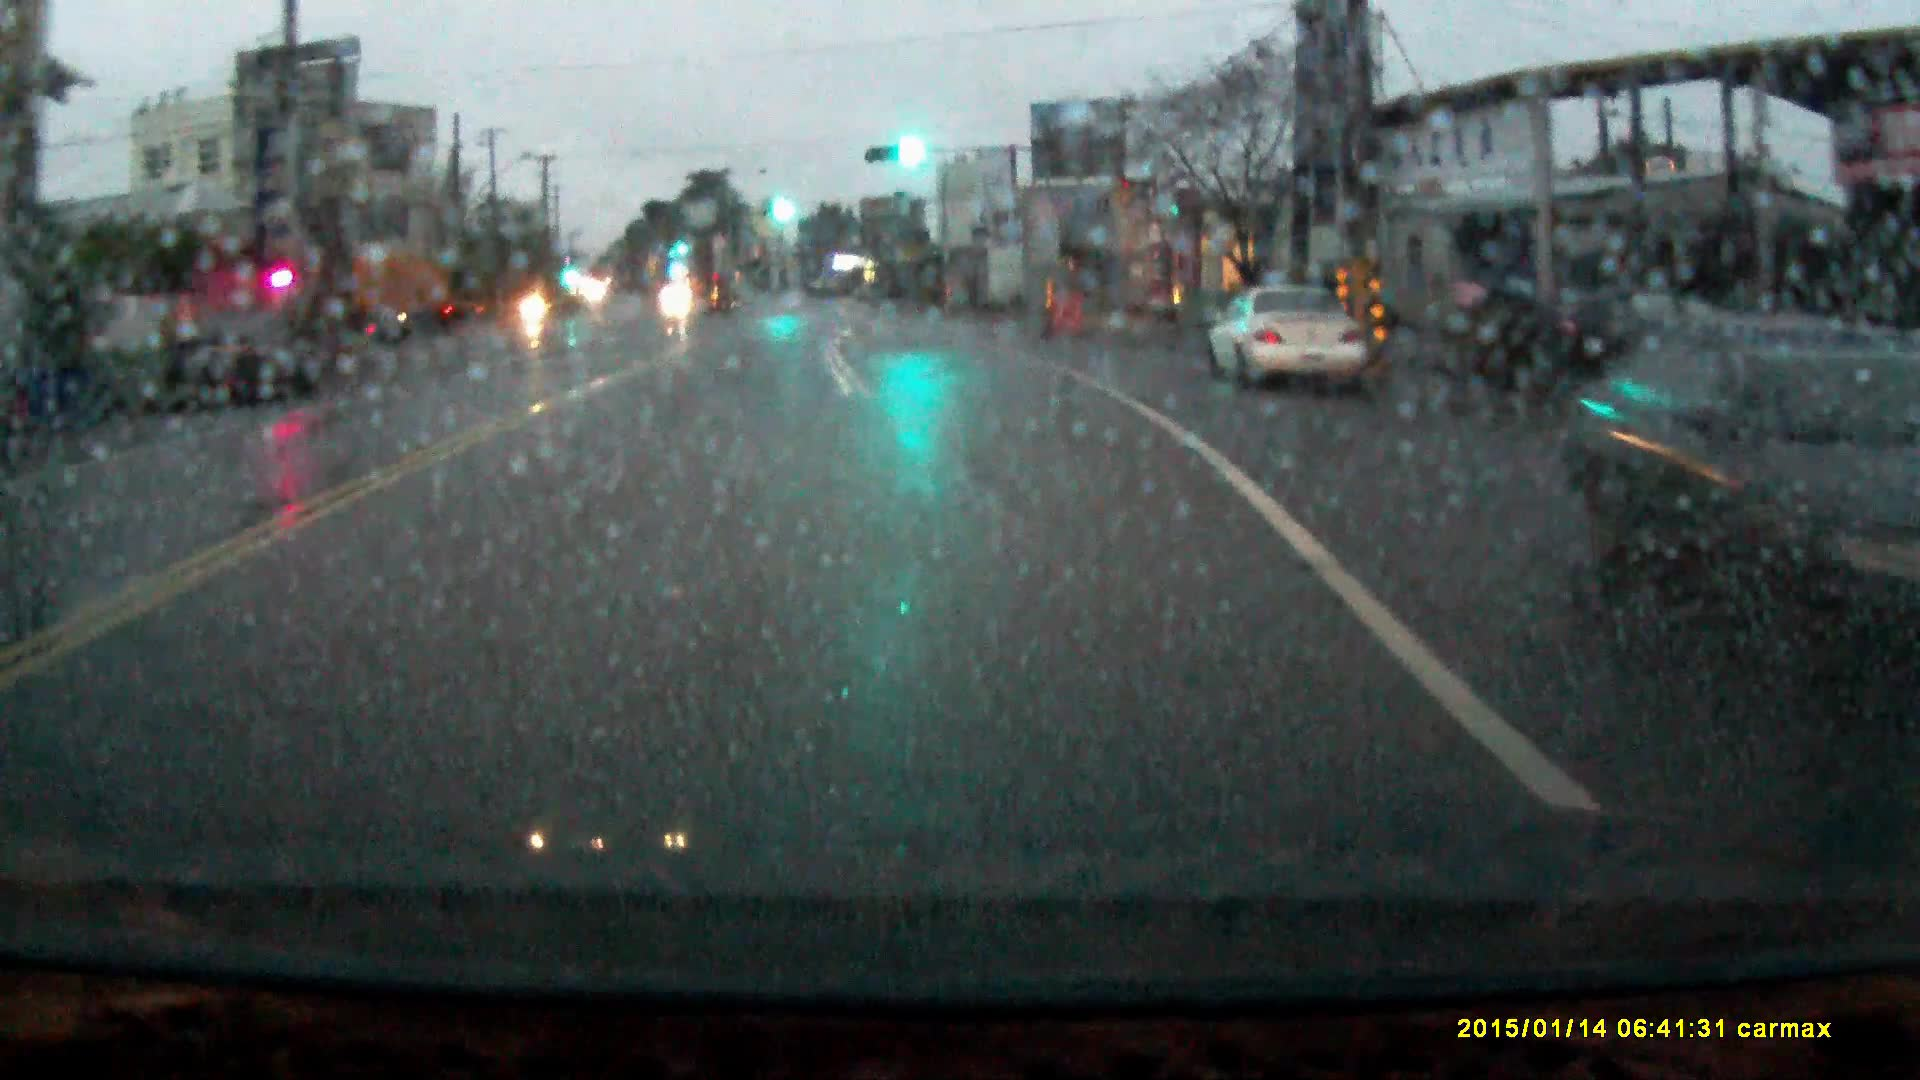rider: (519, 275, 552, 335)
vehicle: (1205, 289, 1360, 396), (321, 245, 485, 338), (160, 322, 322, 413), (663, 290, 692, 314)
